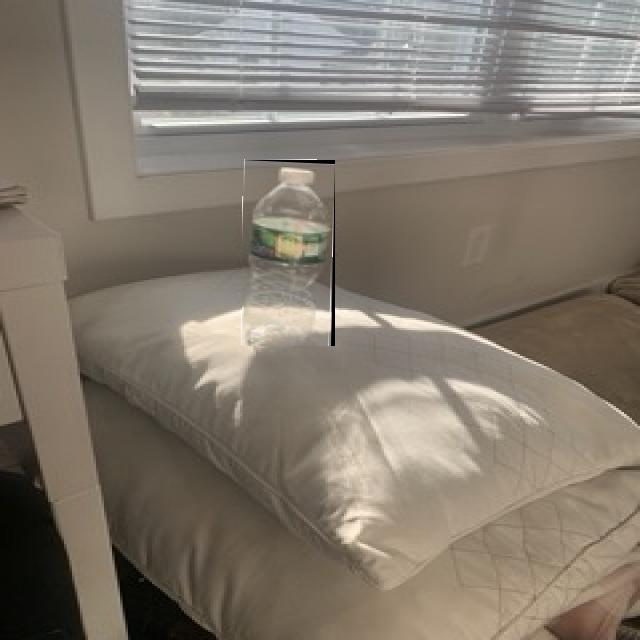water_bottle: (242, 160, 335, 346)
